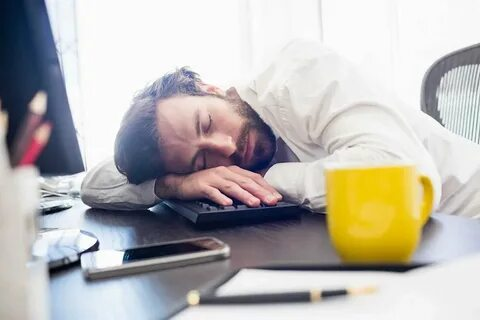sleep: (80, 56, 470, 213)
